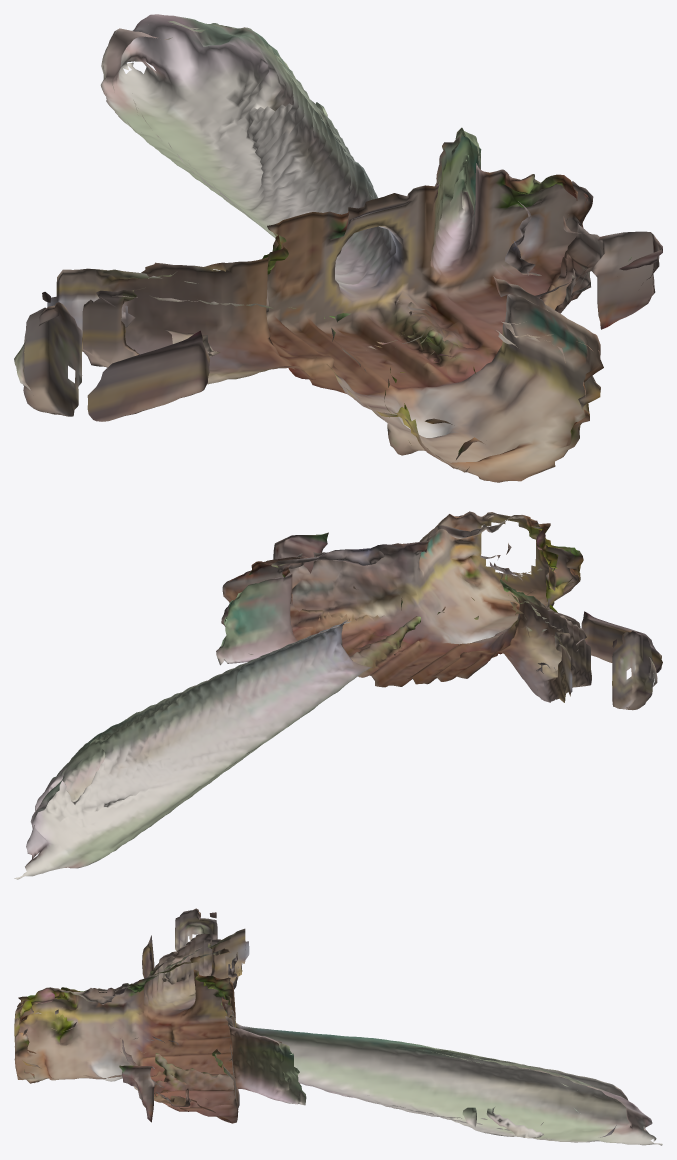
The picture shows the model from 3 angles, top to bottom: view 1: azimuth 30°, elevation 25°; view 2: azimuth 150°, elevation 25°; view 3: azimuth 270°, elevation 25°; orthographic projection. The views are drawn at different scales.
Visible parts, largest first — view 1: world; view 2: world; view 3: world.
Part boxes in pixels (bbox=[...]): world: bbox=[14, 14, 662, 482]; world: bbox=[14, 511, 662, 879]; world: bbox=[14, 908, 662, 1145].
Bounding box in the file's own units: 7.7 × 2.26 × 12.65.
